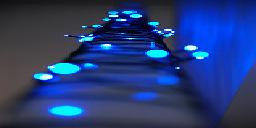LED: (144, 49, 171, 67), (49, 61, 76, 78), (184, 44, 197, 52), (128, 14, 141, 21)
